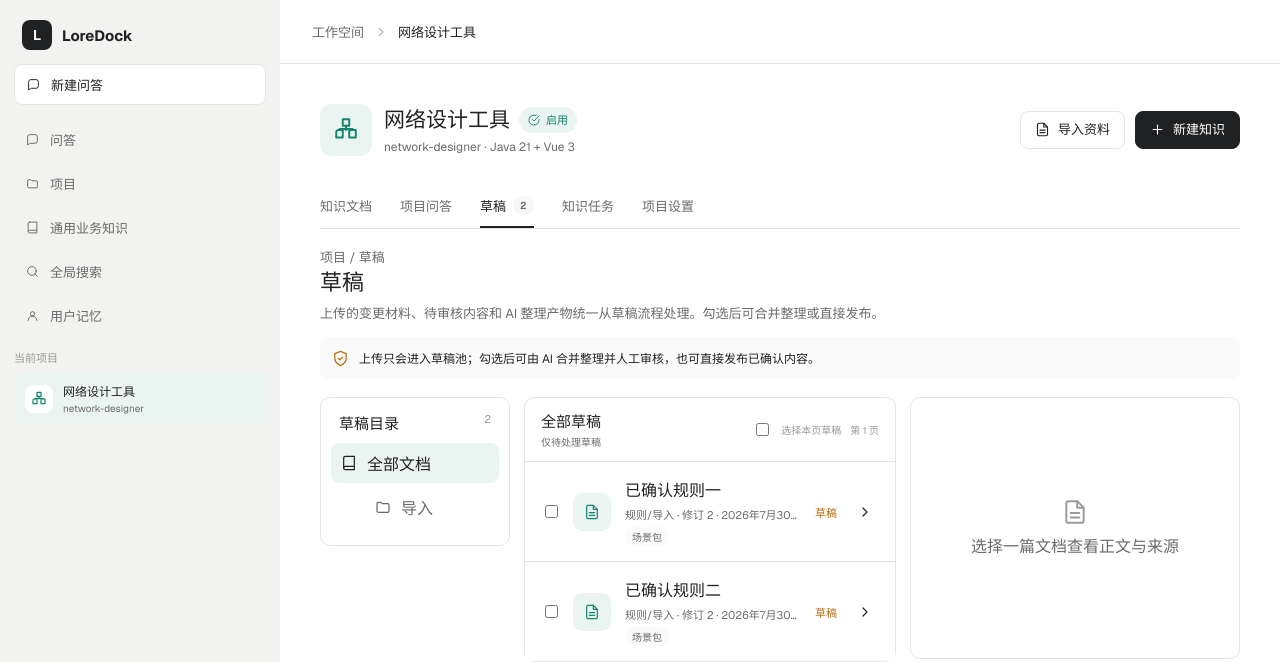
Scenario: KnowledgeWorkspaceView › confirms and publishes selected draft documents as one batch
This screenshot has width=1280, height=662.
Step 1. Click the checkbox with test id "select-all-drafts" → {"x": 763, "y": 430}, box left=756, top=423, right=769, bottom=436
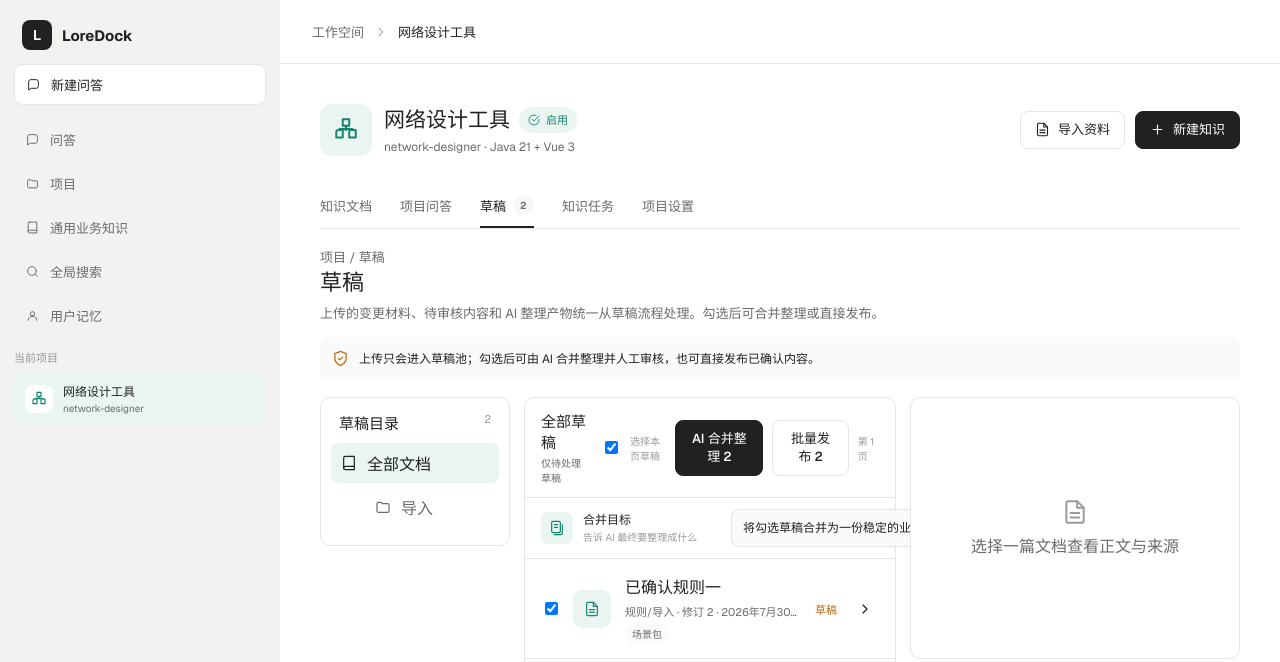
Step 2. Click the button with test id "batch-publish" → {"x": 811, "y": 448}, box left=772, top=420, right=849, bottom=476
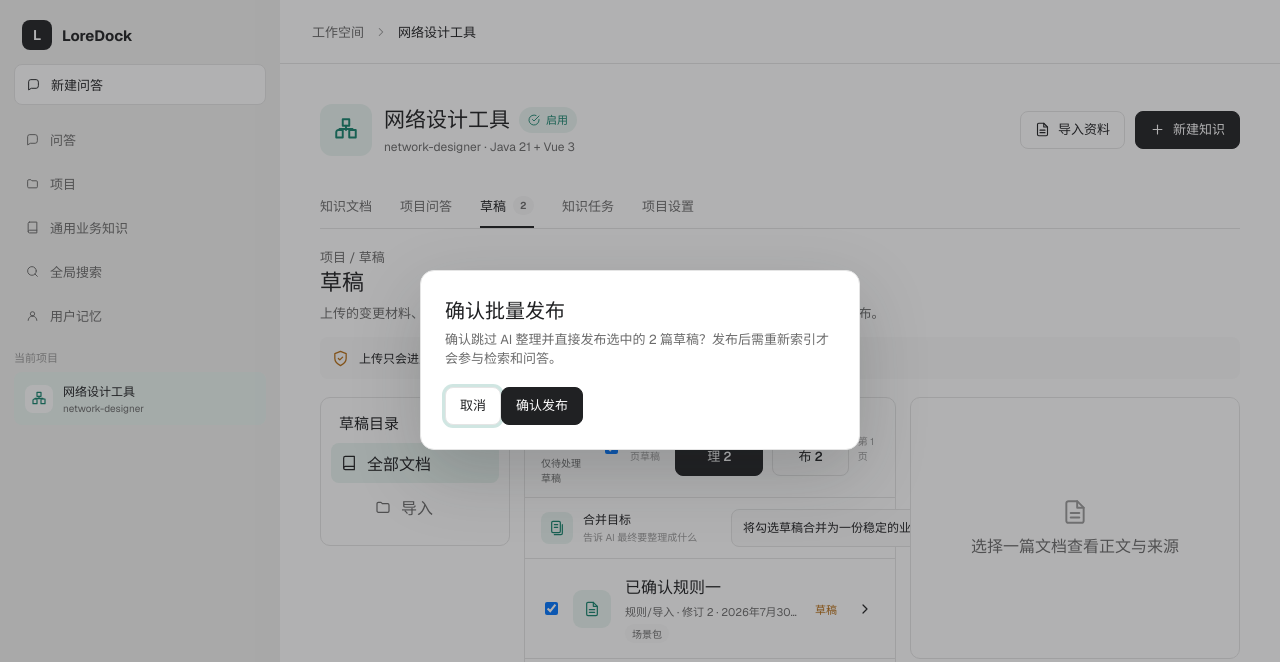
Expected: the dialog shows "跳过 AI 整理并直接发布选中的 2 篇草稿", left=445, top=331, right=829, bottom=367
Step 3. Click the button with test id "confirm-dialog-submit" → {"x": 542, "y": 406}, box left=501, top=387, right=583, bottom=425
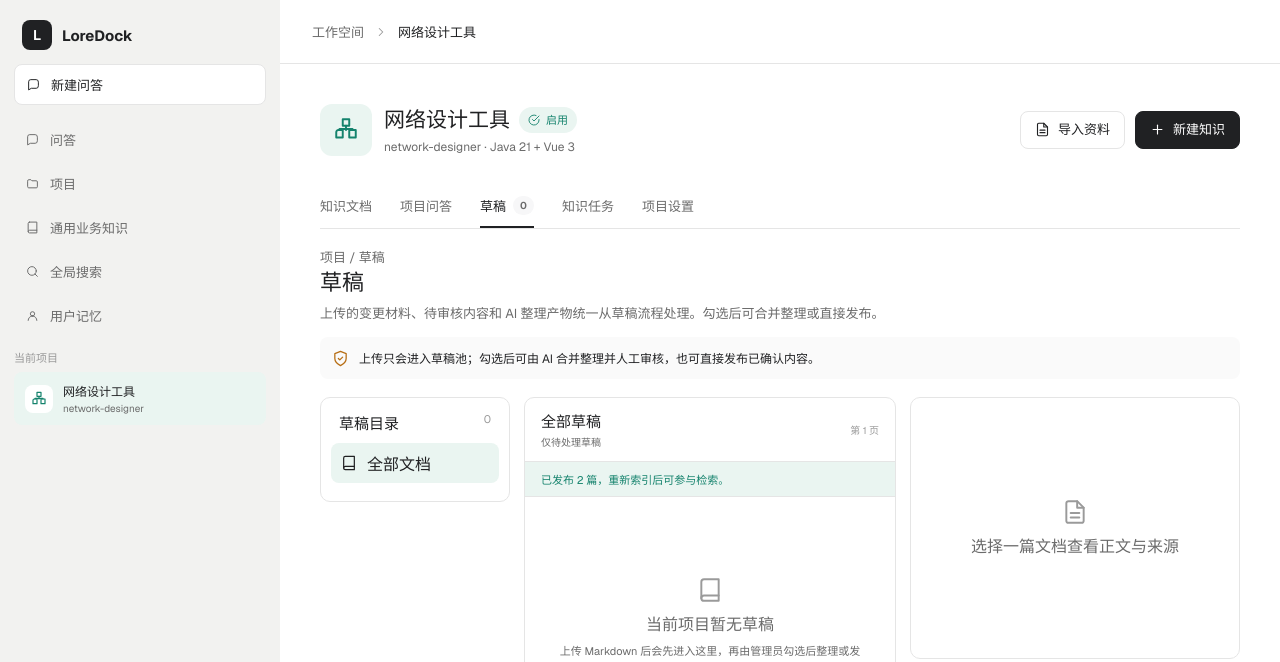
Expected: the message with test id "batch-publish-message" shows "已发布 2 篇", left=541, top=473, right=729, bottom=487
